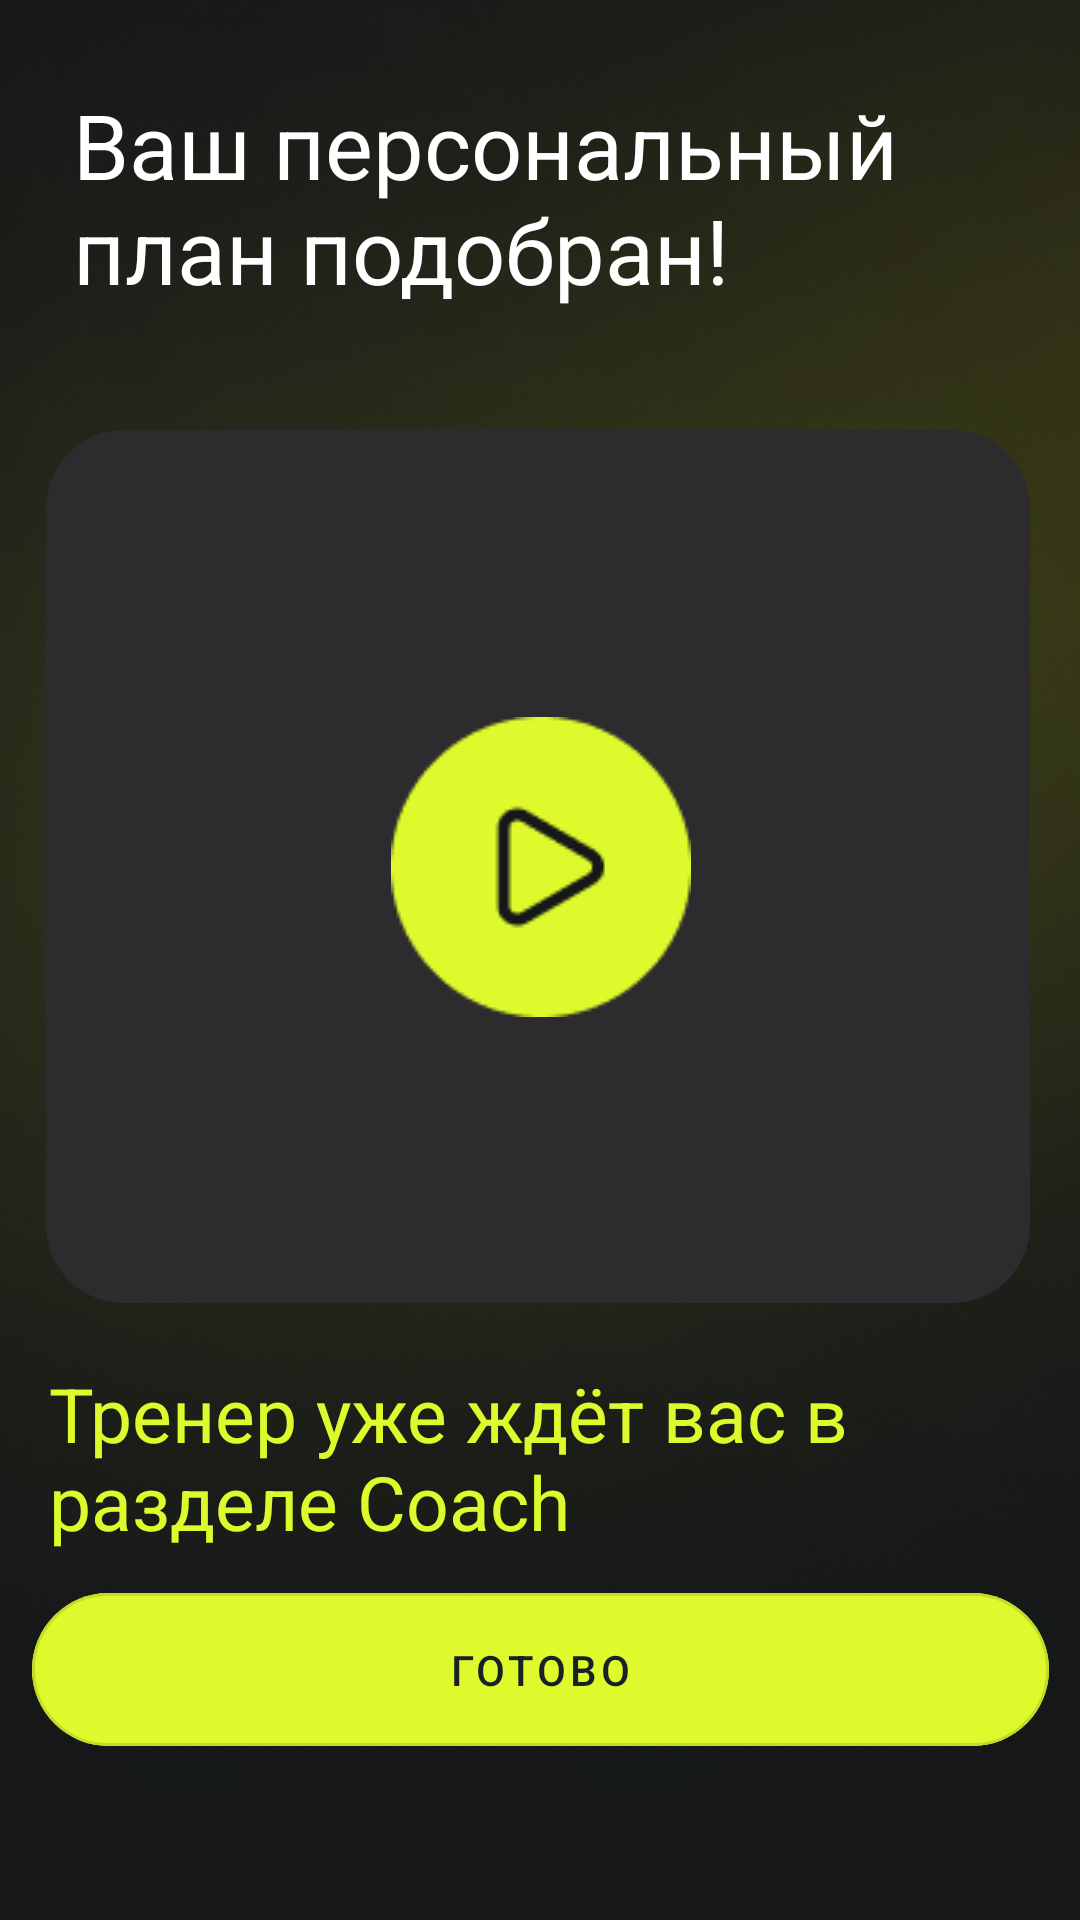

Screen size 1080 × 1920. Icon name, then its box in pixels as {"x1": x1, "y1": y1, "x2": x2, "y2": y2}:
buttonplay: {"x1": 391, "y1": 717, "x2": 691, "y2": 1017}
